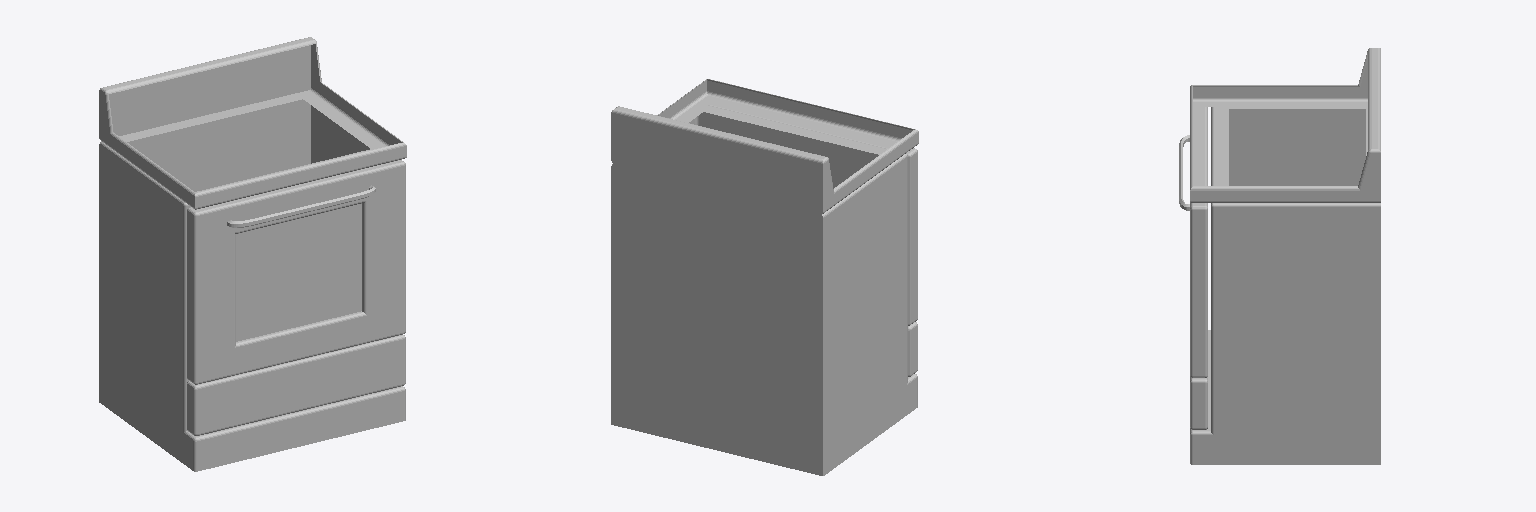
File: basecabinet2.obj
3 renders of one model, left to right at view 1: azimuth 30°, elevation 25°; view 2: azimuth 150°, elevation 25°; view 3: azimuth 270°, elevation 25°, orthographic.
Parts seen in each view (by area): view 1: group_22; view 2: group_22; view 3: group_22.
Boxes of the visible parts, x1=… form: group_22: x1=99, y1=37, x2=406, y2=471; group_22: x1=611, y1=79, x2=918, y2=475; group_22: x1=1179, y1=48, x2=1380, y2=464.
Size of the model in its own units: 64.71 by 91.97 by 53.48.